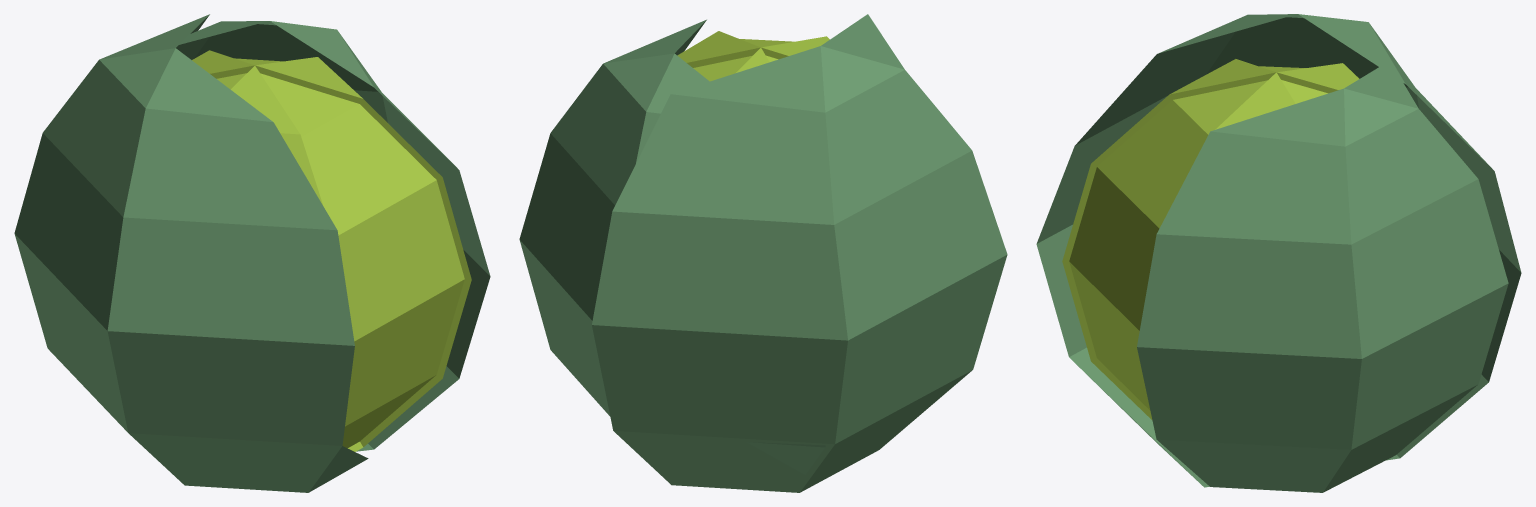
Rendered from uploads_files_3701591_cabbage.fbx.
3 renders of one model, left to right at view 1: azimuth 30°, elevation 25°; view 2: azimuth 150°, elevation 25°; view 3: azimuth 270°, elevation 25°, orthographic. The views are drawn at different scales.
Parts seen in each view (by area): view 1: Sphere.002, Sphere.001, Sphere.003; view 2: Sphere.002, Sphere.003, Sphere.001; view 3: Sphere.003, Sphere.001, Sphere.002.
Part boxes in pixels (left/top/right/bottom): Sphere.002: left=14, top=14, right=368, bottom=492; Sphere.001: left=192, top=50, right=471, bottom=451; Sphere.003: left=176, top=21, right=490, bottom=451; Sphere.002: left=592, top=14, right=1007, bottom=492; Sphere.003: left=519, top=19, right=825, bottom=474; Sphere.001: left=677, top=31, right=829, bottom=81; Sphere.003: left=1137, top=67, right=1508, bottom=492; Sphere.001: left=1062, top=59, right=1359, bottom=419; Sphere.002: left=1036, top=14, right=1521, bottom=487.
Size of the model in its own units: 188 by 204 by 211.
